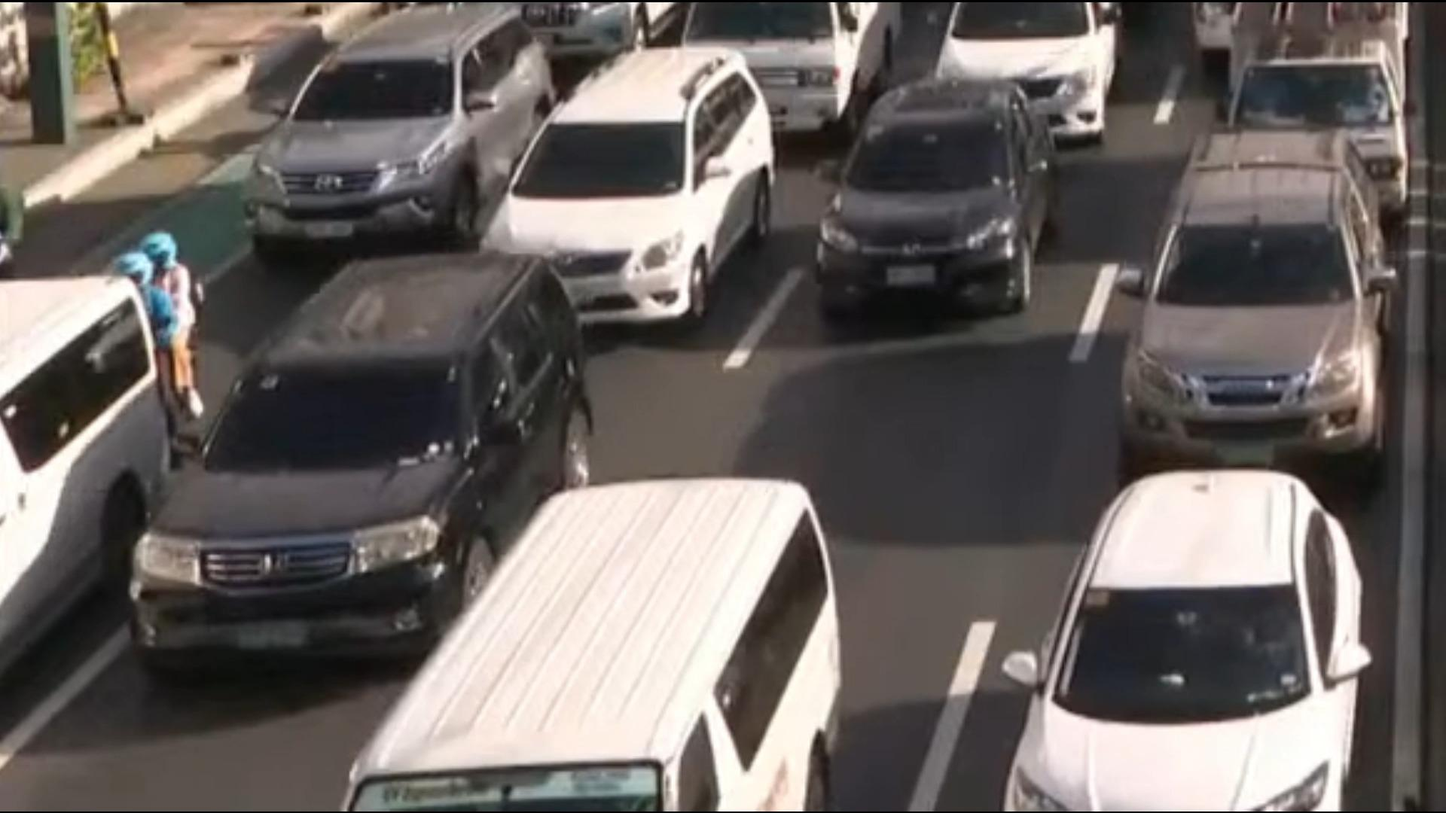Motorcycle: (106, 223, 237, 410)
Multicab: (667, 0, 905, 130)
SUV: (109, 234, 603, 676), (947, 422, 1446, 813), (1122, 132, 1405, 487), (489, 42, 789, 337), (206, 14, 554, 268), (905, 0, 1141, 155)
Sedan: (793, 65, 1077, 351)
Truck: (1197, 0, 1431, 215)
Van: (347, 461, 872, 813), (0, 264, 180, 660)
